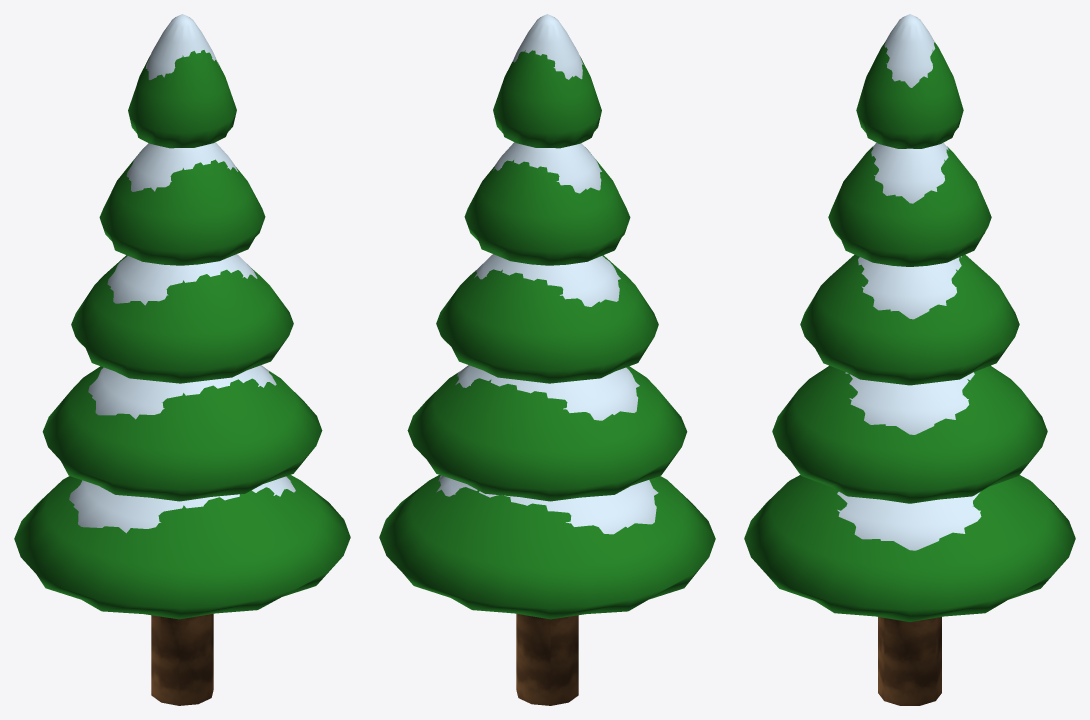
Rendered from prop_pine_tree.glb.
The picture shows the model from 3 angles, left to right: view 1: azimuth 30°, elevation 25°; view 2: azimuth 150°, elevation 25°; view 3: azimuth 270°, elevation 25°; orthographic projection.
Parts seen in each view (by area): view 1: PineTrunk; view 2: PineTrunk; view 3: PineTrunk.
Boxes of the visible parts, x1,y1,x2,y2 form: PineTrunk: [14, 14, 350, 705]; PineTrunk: [379, 14, 715, 705]; PineTrunk: [744, 14, 1075, 705].
Size of the model in its own units: 5.73 by 12.69 by 5.62.
3 materials, 3 textured.
